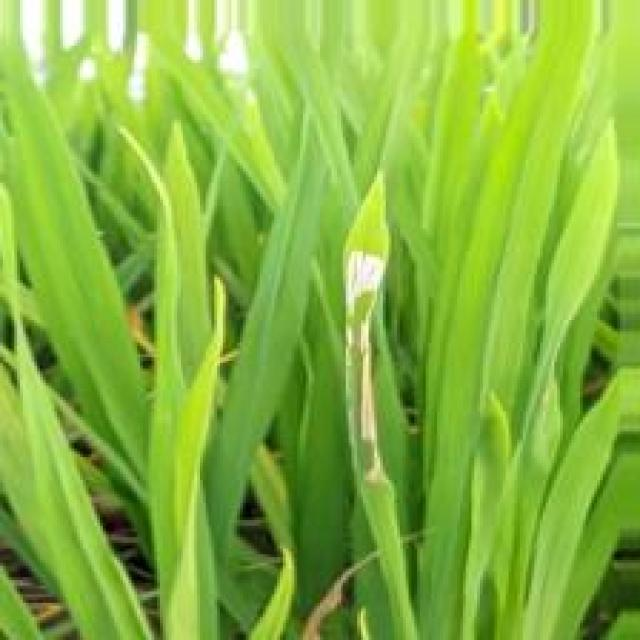Rice_Hispa: (357, 331, 392, 489), (337, 244, 386, 324)
